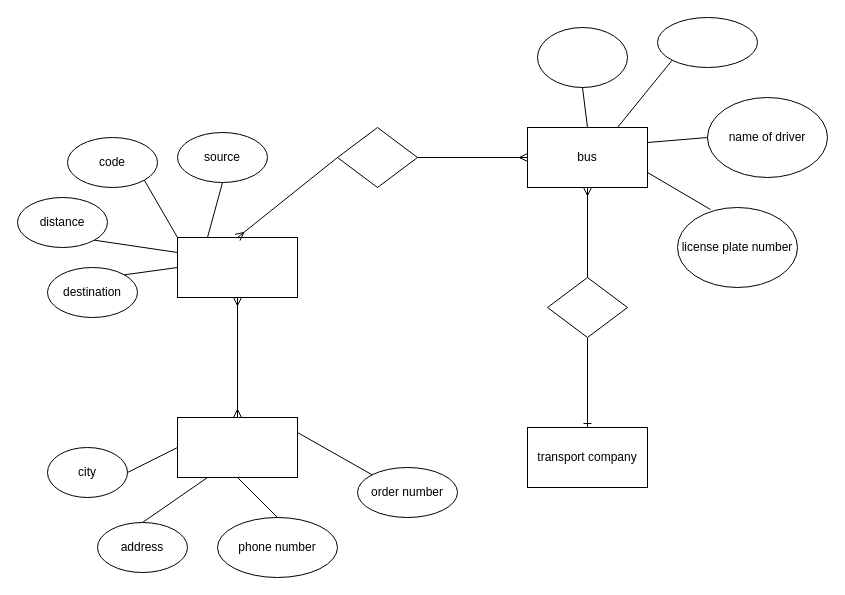
This 845x595 diagram has some shape labels left out. The centre of each missing label's shape, as x and y in pixels:
bus station: the point at 237,447
capacity: the point at 707,42
drives: the point at 377,157
model: the point at 582,57
owns: the point at 587,307
route: the point at 237,267
